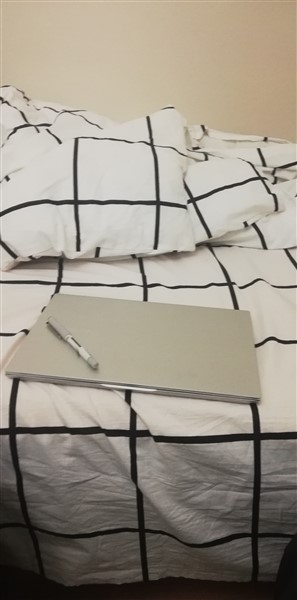laptop: (7, 282, 269, 411)
pilot kalem: (45, 317, 110, 371)
